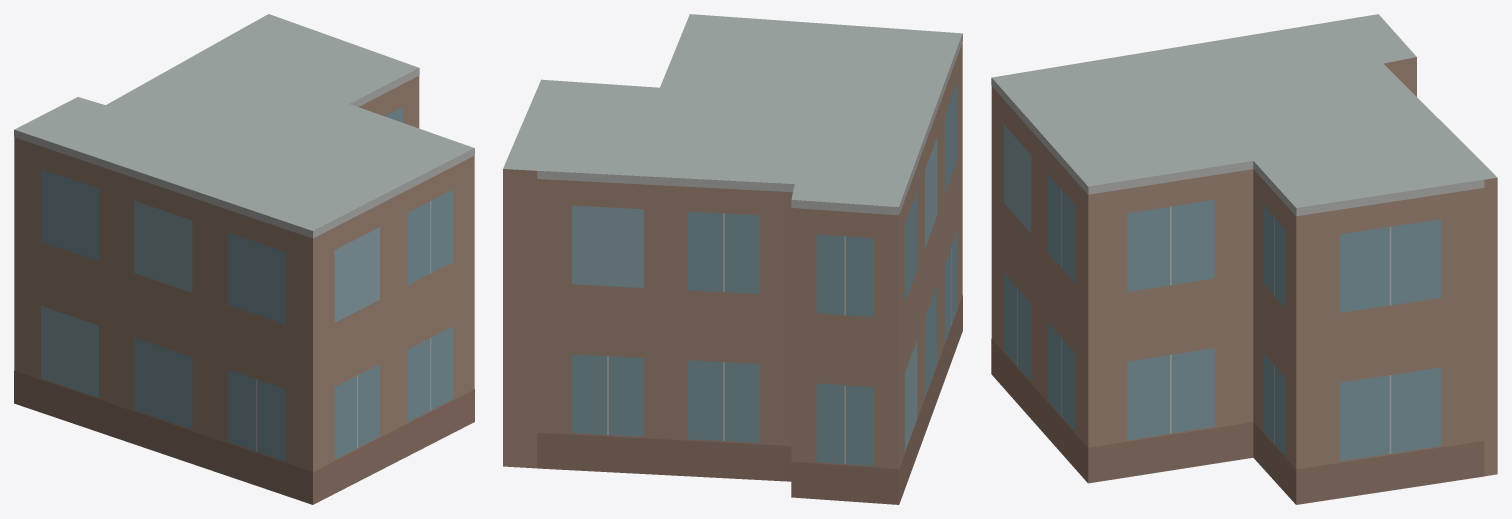
The model's file is survey-upis-32480457.glb.
3 views of the same model, side by side, from view 1: azimuth 30°, elevation 25°; view 2: azimuth 150°, elevation 25°; view 3: azimuth 270°, elevation 25° (orthographic). The views are drawn at different scales.
Visible parts, largest first — view 1: survey-upis-32480457.tmp; view 2: survey-upis-32480457.tmp; view 3: survey-upis-32480457.tmp.
Boxes of the visible parts, x1,y1,x2,y2 form: survey-upis-32480457.tmp: (14,14,474,504); survey-upis-32480457.tmp: (503,14,962,504); survey-upis-32480457.tmp: (991,14,1497,504).
Size of the model in its own units: 12.5 by 8.9 by 13.76.
